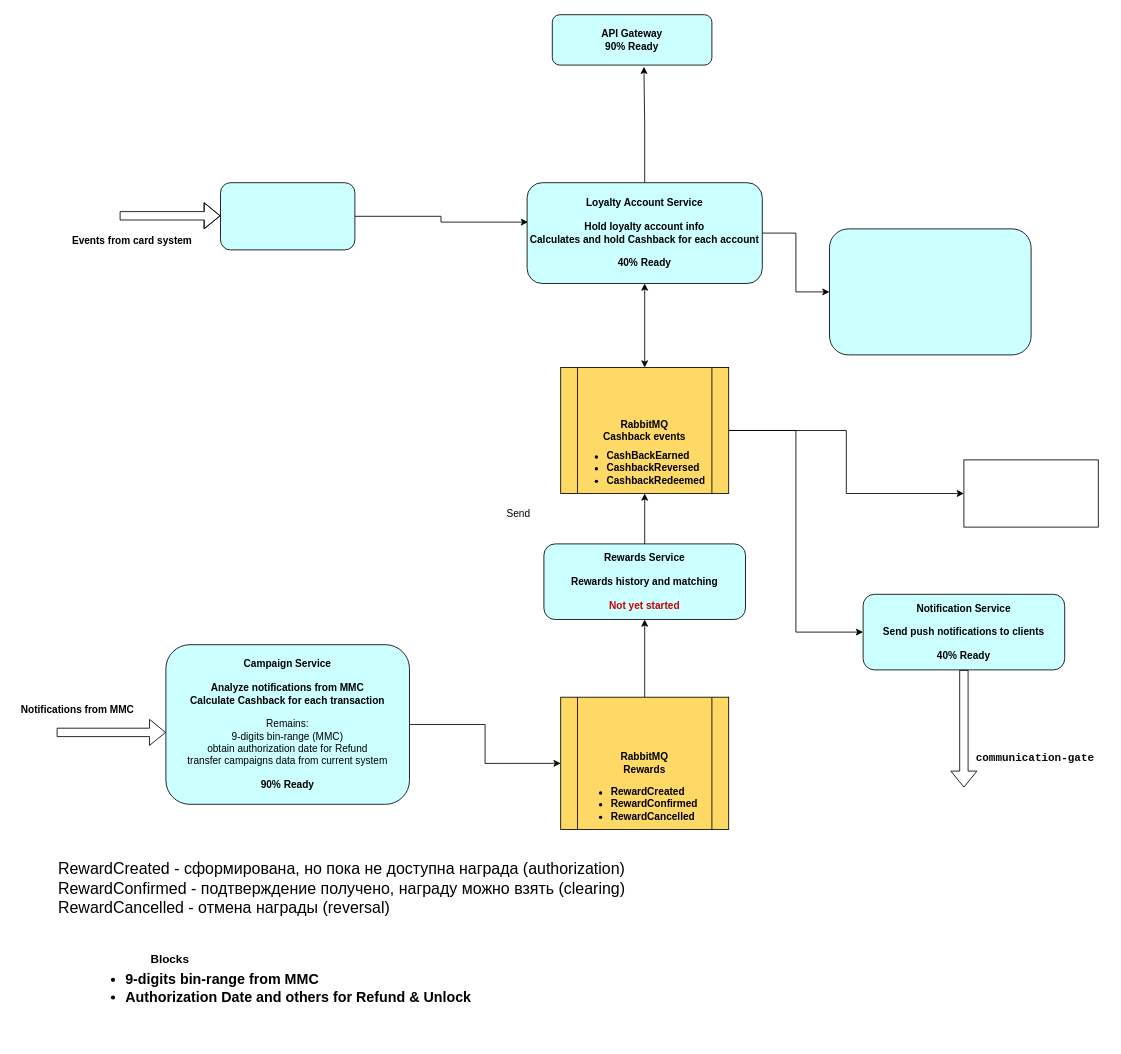
The diagram is 1121 pixels wide and 1054 high, and some of its shapes have lost their labels. Here are the shapes that lost their labels. From the top down, the box of each, then its label:
(220, 182, 355, 250): Enrollment Service 100% Ready
(829, 228, 1031, 355): Cashflow Service T24 Transactions Not yet started
(963, 459, 1098, 527): Transactions History
